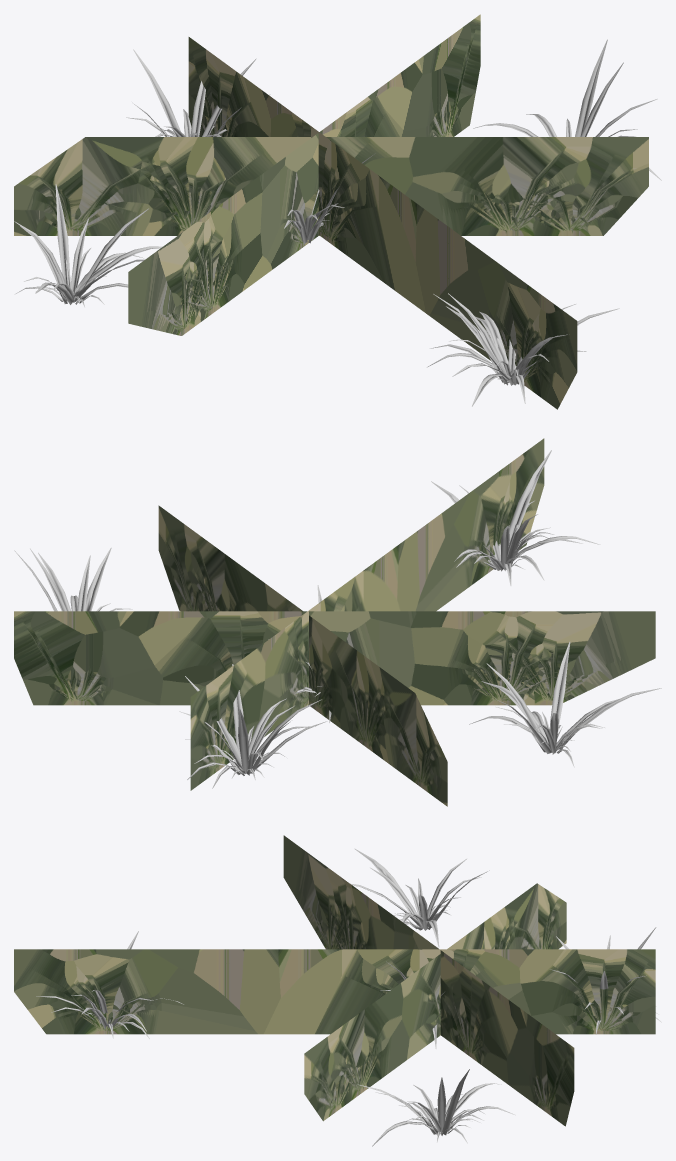
Rendered from PW_Grass_01_03.fbx.
The picture shows the model from 3 angles, top to bottom: view 1: azimuth 30°, elevation 25°; view 2: azimuth 150°, elevation 25°; view 3: azimuth 270°, elevation 25°; orthographic projection. The views are drawn at different scales.
Visible parts, largest first — view 1: Billboard, LOD0; view 2: Billboard, LOD0; view 3: Billboard, LOD0.
Part boxes in pixels (x1,y1,x2,y2): Billboard: (14,14,648,409); LOD0: (14,39,661,406); Billboard: (14,438,655,806); LOD0: (14,450,661,788); Billboard: (14,835,655,1126); LOD0: (36,848,661,1146).
Size of what is drawn, in the model's own units: 77.25 by 12.27 by 80.3.
